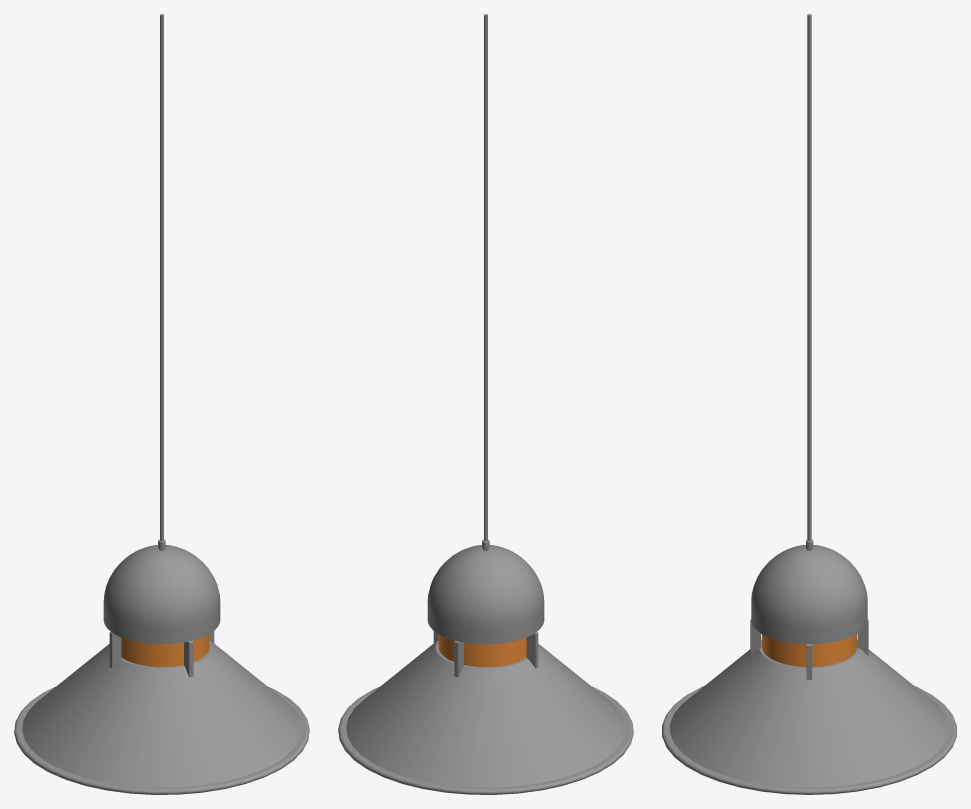
The model's file is light_up_all.FBX.
3 renders of one model, left to right at view 1: azimuth 30°, elevation 25°; view 2: azimuth 150°, elevation 25°; view 3: azimuth 270°, elevation 25°, orthographic.
Parts seen in each view (by area): view 1: obj_02, obj_07; view 2: obj_02, obj_07; view 3: obj_02, obj_07.
Part boxes in pixels (x1=…): obj_02: x1=14, y1=14, x2=309, y2=794; obj_07: x1=121, y1=634, x2=209, y2=667; obj_02: x1=338, y1=14, x2=633, y2=794; obj_07: x1=438, y1=634, x2=526, y2=667; obj_02: x1=662, y1=14, x2=956, y2=794; obj_07: x1=762, y1=634, x2=856, y2=666.
Bounding box in the file's own units: 21.7 × 60.1 × 21.63.
